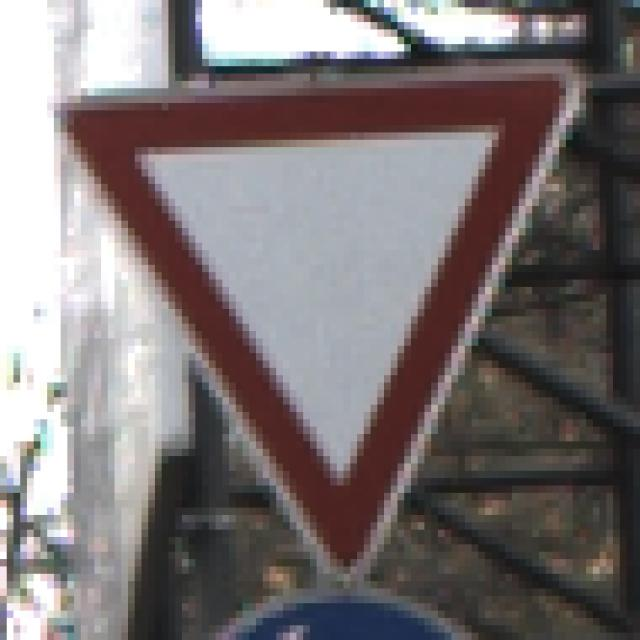Give Way: (55, 53, 587, 590)
